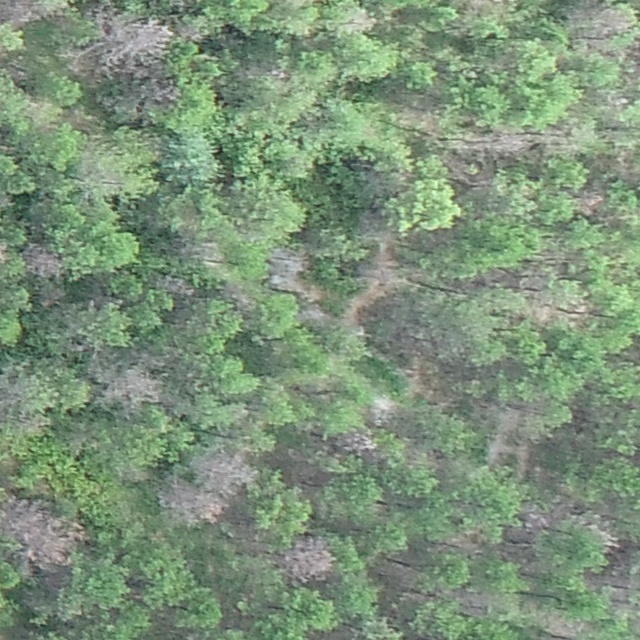unhealthy: (3, 495, 83, 569), (96, 16, 174, 78), (157, 478, 227, 529), (192, 447, 256, 493), (100, 368, 163, 410), (281, 536, 334, 583), (266, 246, 313, 294), (486, 408, 521, 472), (357, 252, 402, 299), (397, 361, 439, 402), (61, 42, 102, 80), (487, 125, 532, 158), (21, 243, 62, 279), (541, 609, 587, 639), (595, 6, 635, 36), (443, 151, 477, 185), (454, 587, 493, 616), (342, 290, 373, 326), (339, 430, 379, 457), (0, 0, 40, 26), (518, 501, 553, 530), (223, 283, 256, 313), (151, 274, 193, 297), (145, 78, 179, 105), (575, 187, 605, 216), (344, 9, 375, 34), (528, 299, 556, 325), (297, 305, 330, 327), (367, 407, 397, 426)
